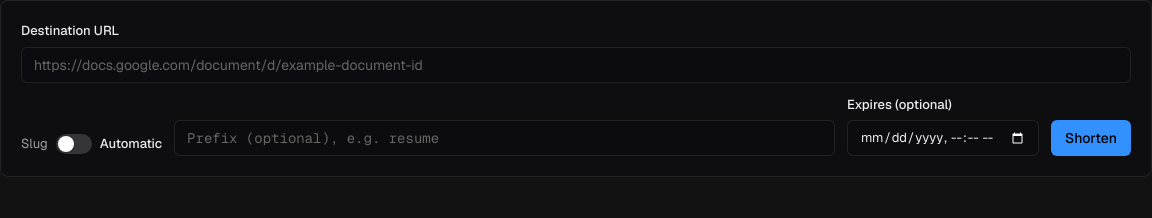
Test case: CreateForm validation › rejects non-http(s) URLs
Type "javascript:alert(1)" into the field labelled "Destination URL" at (576, 64), box [21, 46, 1131, 82]
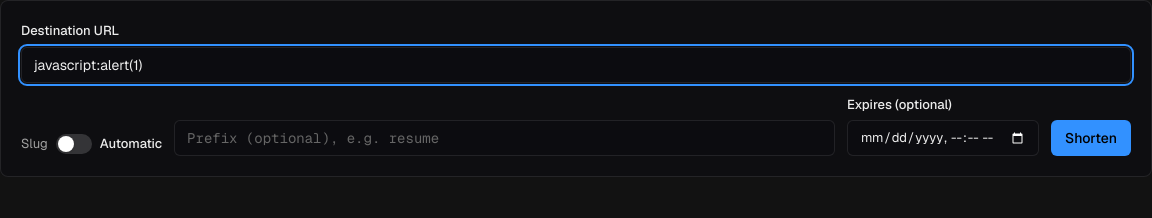
Click the button "Shorten" at (1091, 138), box [1051, 120, 1131, 156]
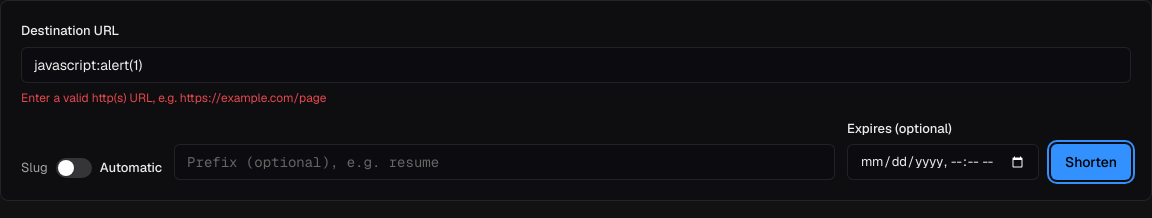
Result: the text "Enter a valid http(s) URL, e.g. https://example.com/page" is shown at [21, 90, 326, 106]
